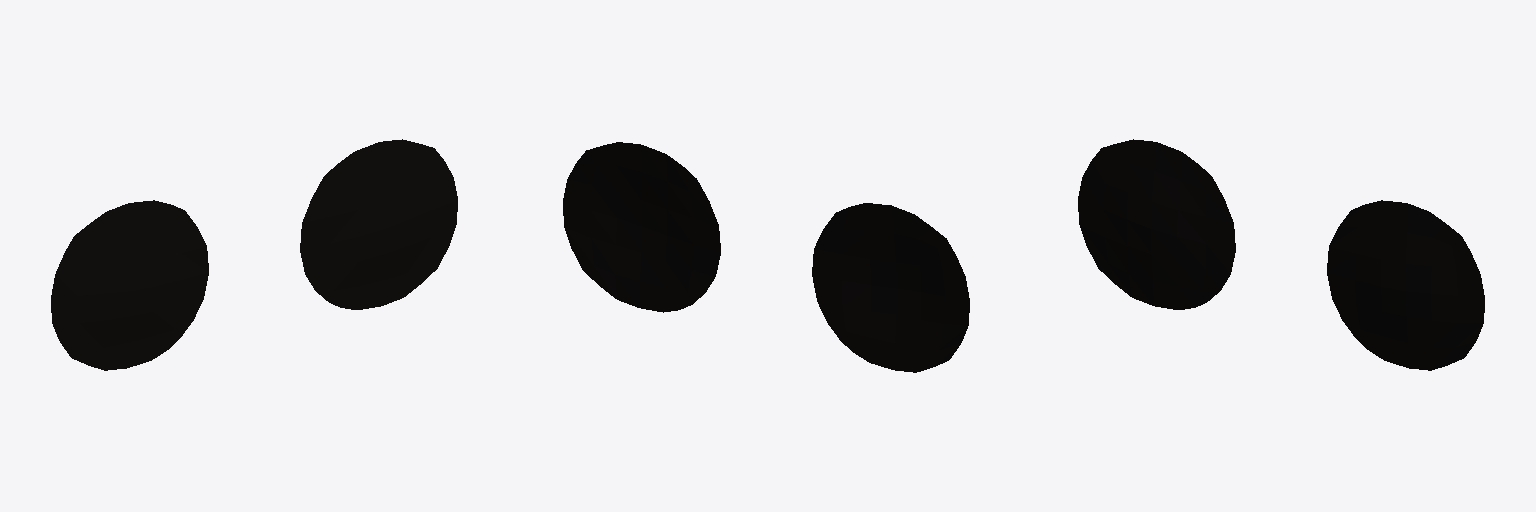
Rendered from glasses_3_lenses.obj.
3 renders of one model, left to right at view 1: azimuth 30°, elevation 25°; view 2: azimuth 150°, elevation 25°; view 3: azimuth 330°, elevation 25°, orthographic.
Visible parts, largest first — view 1: Plane; view 2: Plane; view 3: Plane.
Part boxes in pixels (x1,y1,x2,y2): Plane: (51, 139, 457, 370); Plane: (563, 142, 969, 372); Plane: (1078, 139, 1484, 370).
Size of the model in its own units: 0.1357 by 0.0524 by 0.002.